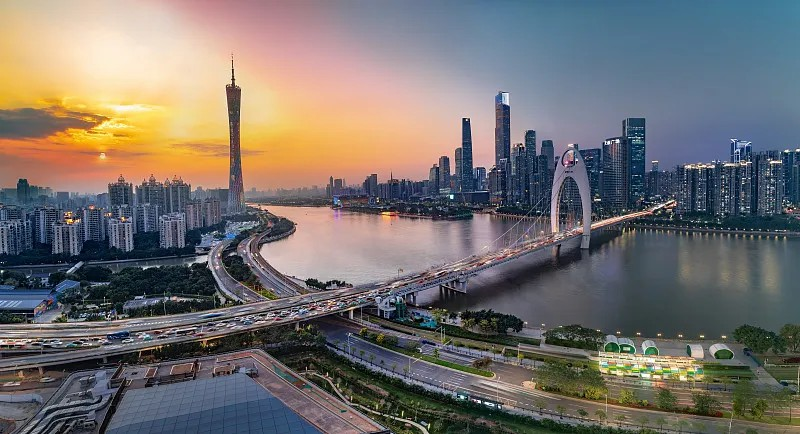Canton: (225, 53, 246, 215)
